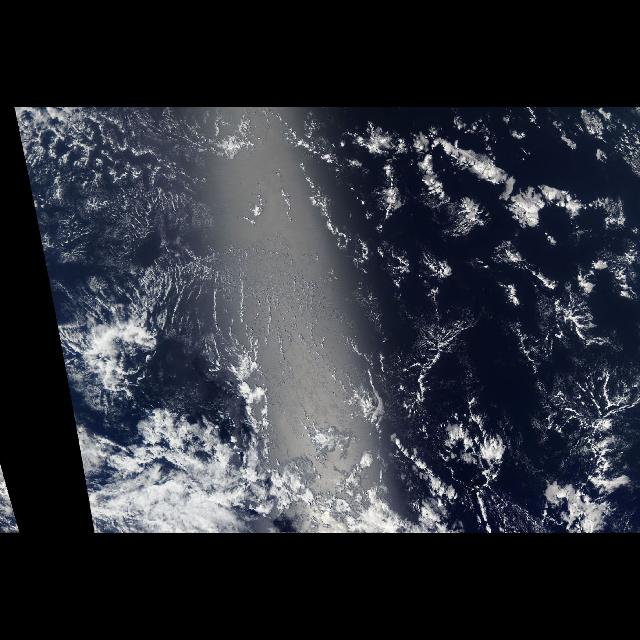Fish: (332, 116, 628, 244)
Flower: (339, 120, 639, 532)
Sugar: (12, 110, 474, 432)
